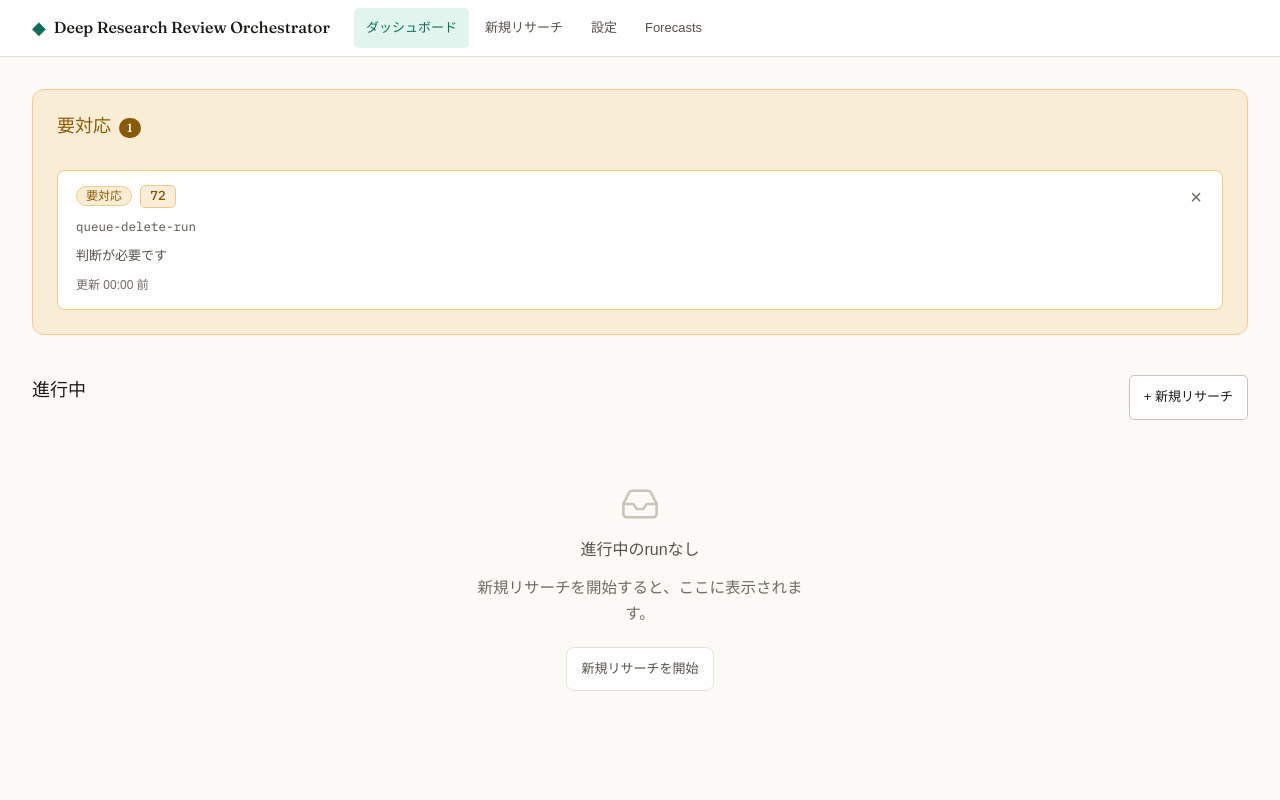
Scenario: Dashboard (SCR-2) › deletes a human-review queue item from the backend queue
This screenshot has width=1280, height=800.
Expected: the text "queue-delete-run" is shown, x1=76 y1=218 x2=196 y2=234
Click the button "×": (1196, 197) x1=1182 y1=183 x2=1210 y2=211
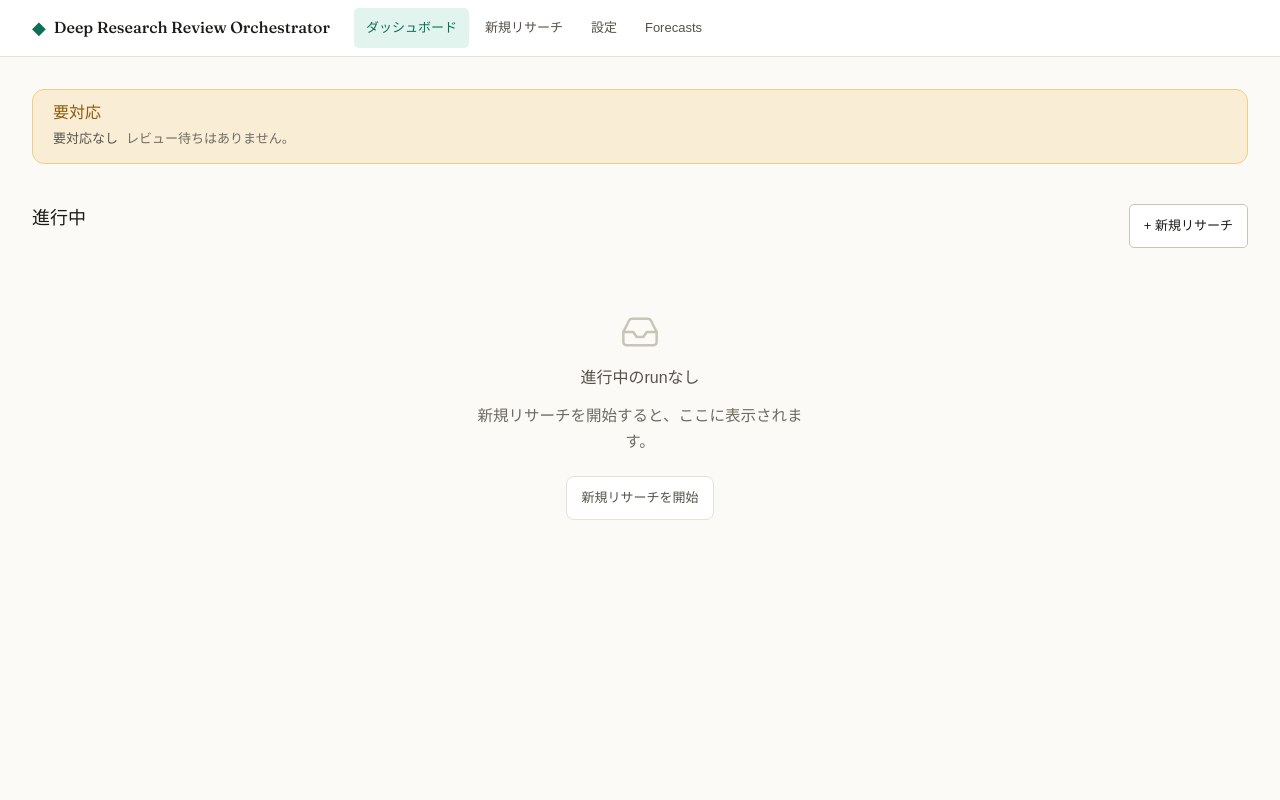
Now the link "queue-delete-run" is gone
